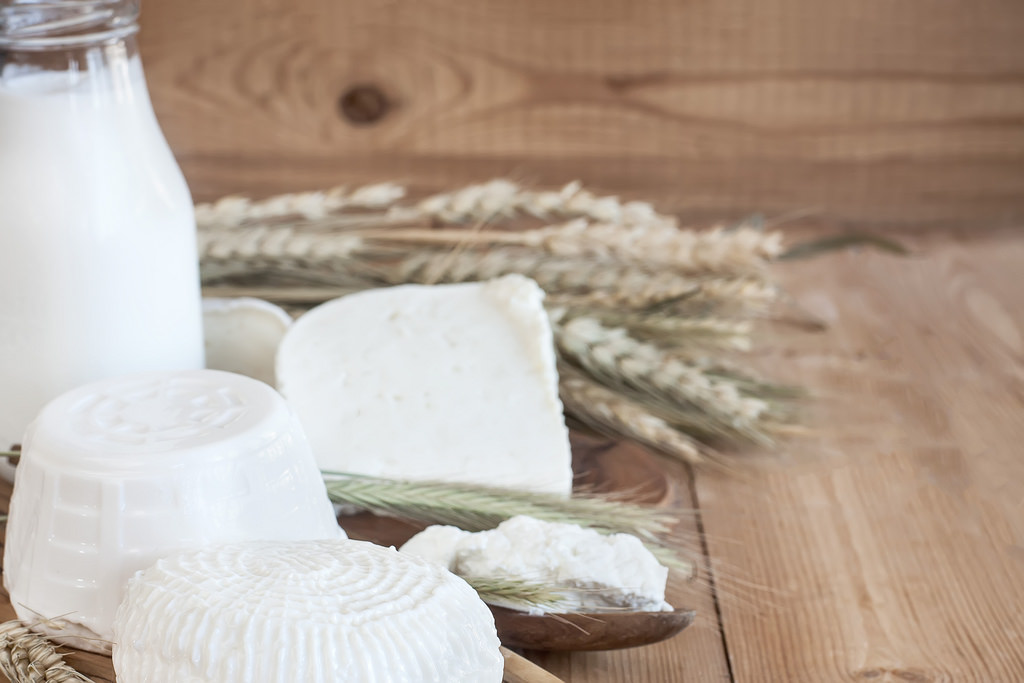glass of milk: (17, 10, 196, 407)
